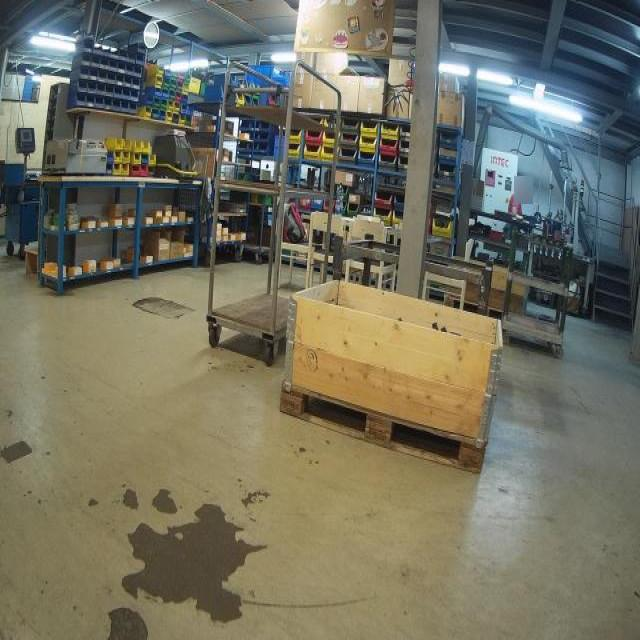pallet: (273, 378, 489, 479), (444, 294, 504, 322)
